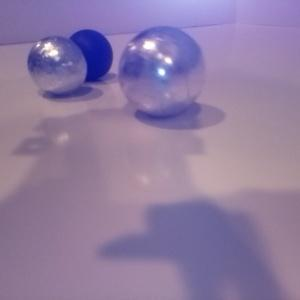alive_ball: (118, 26, 206, 117), (27, 36, 88, 95)
dead_ball: (66, 30, 113, 81)
